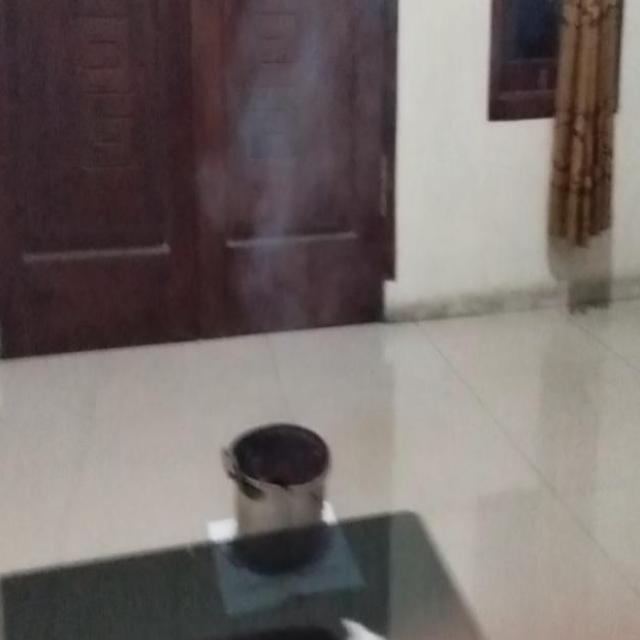fire: (235, 0, 384, 305)
